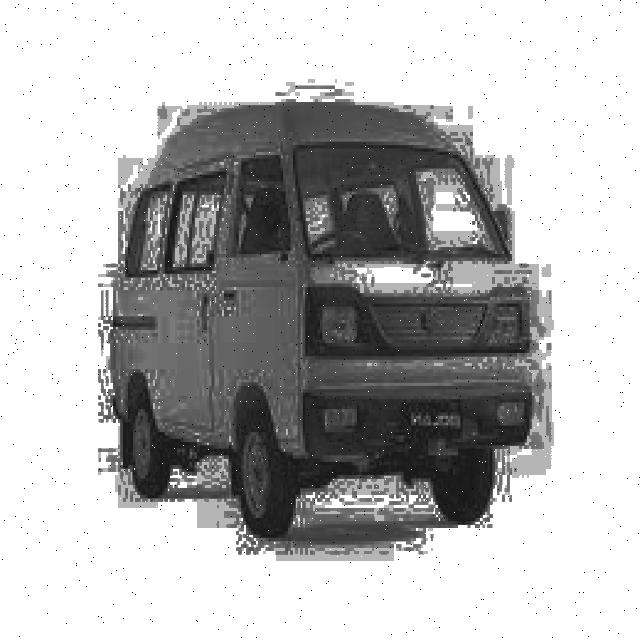LCV: (113, 99, 532, 538)
